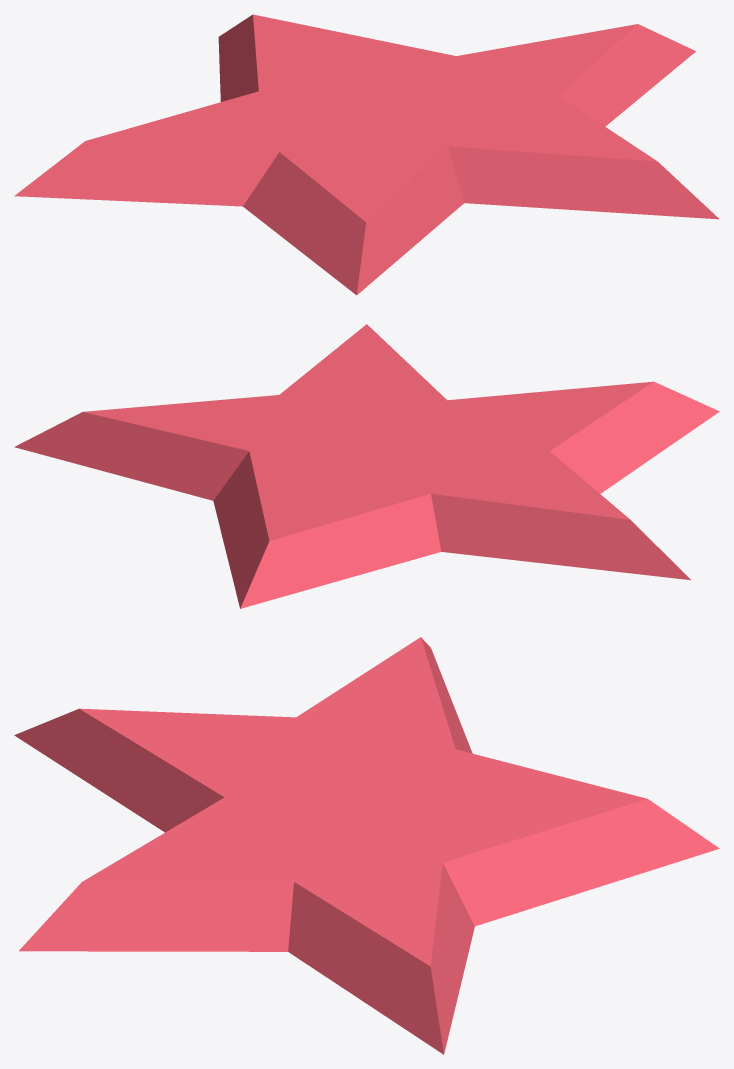
Rendered from estrella.fbx.
3 renders of one model, top to bottom at view 1: azimuth 30°, elevation 25°; view 2: azimuth 150°, elevation 25°; view 3: azimuth 270°, elevation 25°, orthographic. The views are drawn at different scales.
Visible parts, largest first — view 1: Estrella de mar; view 2: Estrella de mar; view 3: Estrella de mar.
Boxes of the visible parts, x1,y1,x2,y2 form: Estrella de mar: (14, 14, 719, 295); Estrella de mar: (14, 324, 719, 608); Estrella de mar: (14, 637, 719, 1054).
Bounding box in the file's own units: 99.16 × 9.57 × 78.56.
